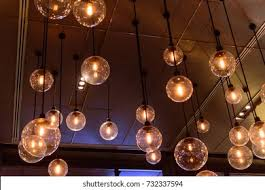bulb: (20, 114, 63, 158), (168, 135, 211, 172), (162, 73, 197, 110), (73, 1, 111, 33), (131, 122, 167, 154), (13, 136, 47, 168), (79, 56, 115, 86), (26, 67, 56, 101), (208, 48, 240, 78), (226, 141, 256, 172), (157, 43, 187, 69), (96, 117, 123, 141), (133, 102, 158, 126), (221, 83, 248, 105), (40, 105, 64, 129), (64, 109, 88, 132), (47, 158, 71, 181), (139, 150, 163, 171), (192, 117, 213, 138), (225, 126, 249, 143), (248, 122, 265, 144)
